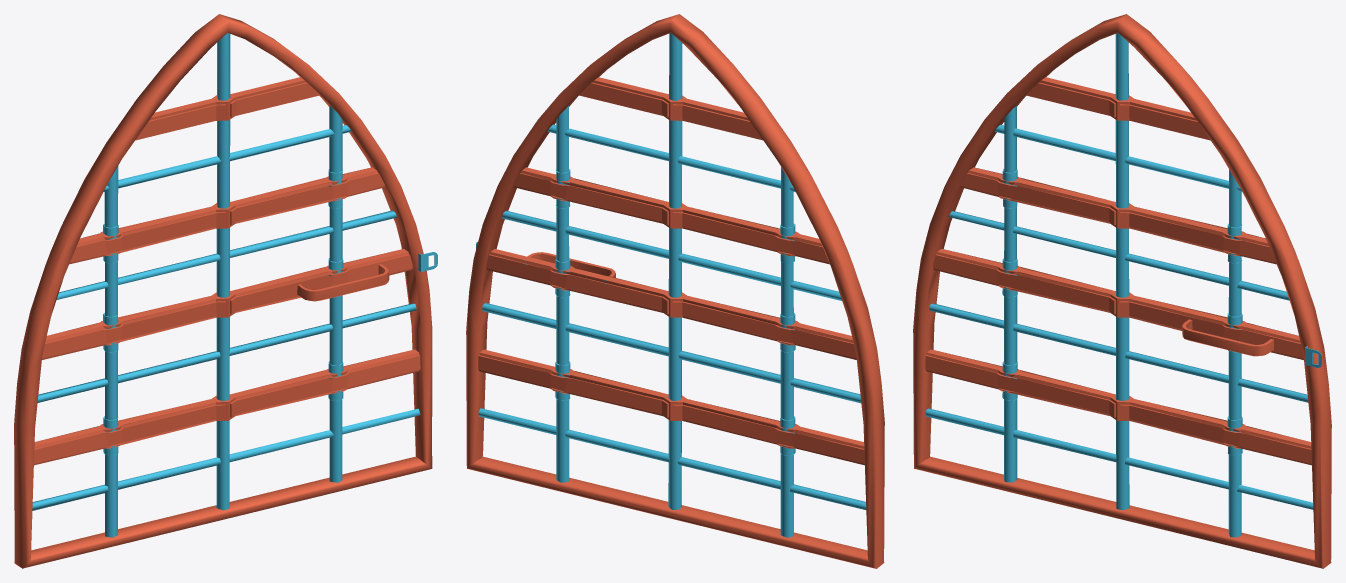
The model's file is Floor_01_JailDoor_01_a_Collider.fbx.
3 views of the same model, side by side, from view 1: azimuth 30°, elevation 25°; view 2: azimuth 150°, elevation 25°; view 3: azimuth 330°, elevation 25° (orthographic).
Parts seen in each view (by area): view 1: Brick_02_Lowpoly.002; view 2: Brick_02_Lowpoly.002; view 3: Brick_02_Lowpoly.002.
Boxes of the visible parts, bbox=[...] form: Brick_02_Lowpoly.002: bbox=[14, 14, 437, 568]; Brick_02_Lowpoly.002: bbox=[466, 14, 884, 568]; Brick_02_Lowpoly.002: bbox=[913, 14, 1331, 568].
Bounding box in the file's own units: 140 × 162 × 12.38.
